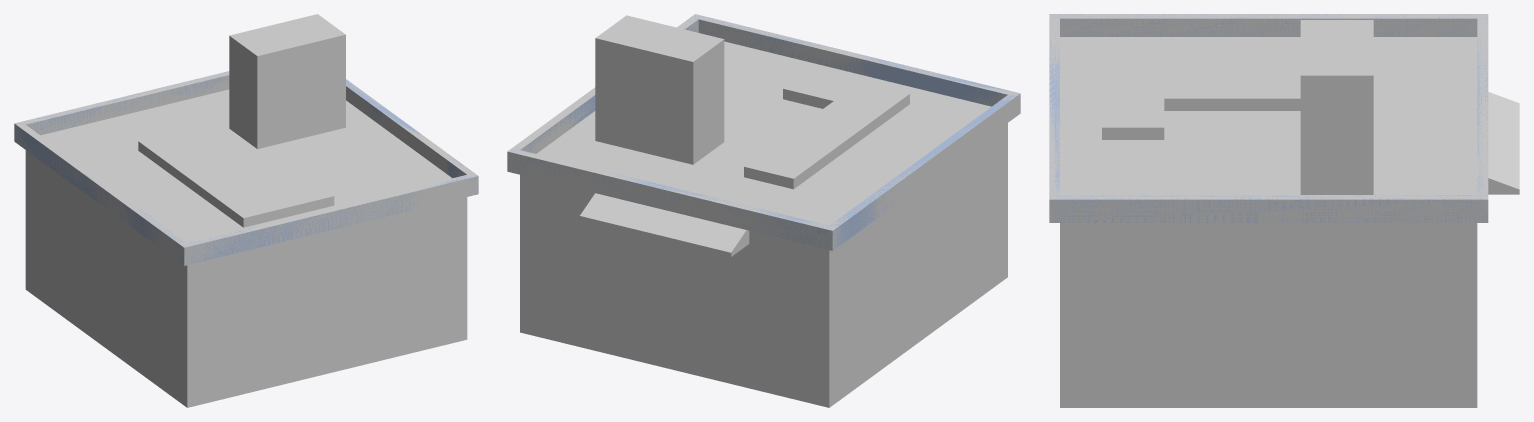
Rendered from building-fragments.glb.
3 renders of one model, left to right at view 1: azimuth 30°, elevation 25°; view 2: azimuth 150°, elevation 25°; view 3: azimuth 270°, elevation 25°, orthographic. The views are drawn at different scales.
Parts seen in each view (by area): view 1: Base, Building, Building.002, Frame; view 2: Base, Building, Building.002, Frame, Building.001; view 3: Building, Base, Building.002, Frame, Building.001.
Boxes of the visible parts, <box> form: Base: <box>14,71,478,407</box>; Building: <box>25,89,467,407</box>; Building.002: <box>138,14,345,227</box>; Frame: <box>14,72,477,265</box>; Base: <box>507,14,1020,407</box>; Building: <box>520,41,1007,407</box>; Building.002: <box>595,15,909,189</box>; Frame: <box>507,15,1020,250</box>; Building.001: <box>579,193,749,387</box>; Building: <box>1060,37,1477,407</box>; Base: <box>1049,14,1488,407</box>; Building.002: <box>1102,20,1373,194</box>; Frame: <box>1049,14,1488,222</box>; Building.001: <box>1488,92,1519,194</box>.
Bounding box in the file's own units: 2.1 × 1.66 × 2.26.
